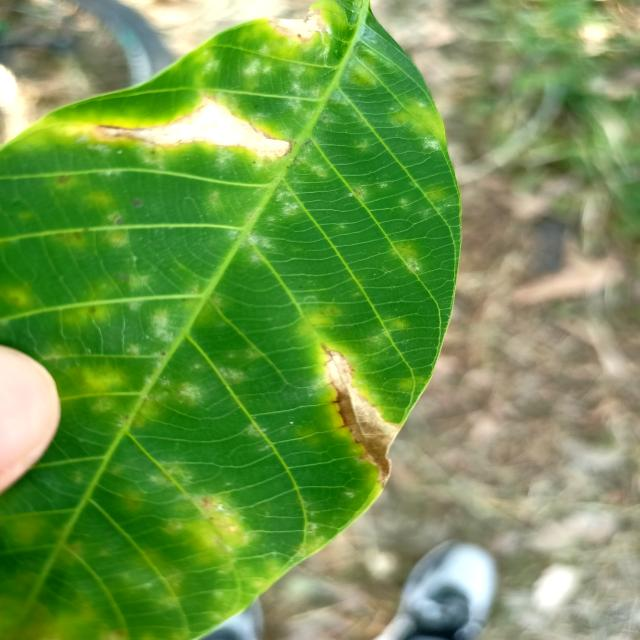Leaf-Blight: (97, 97, 290, 159), (324, 350, 401, 485), (269, 8, 324, 42)
